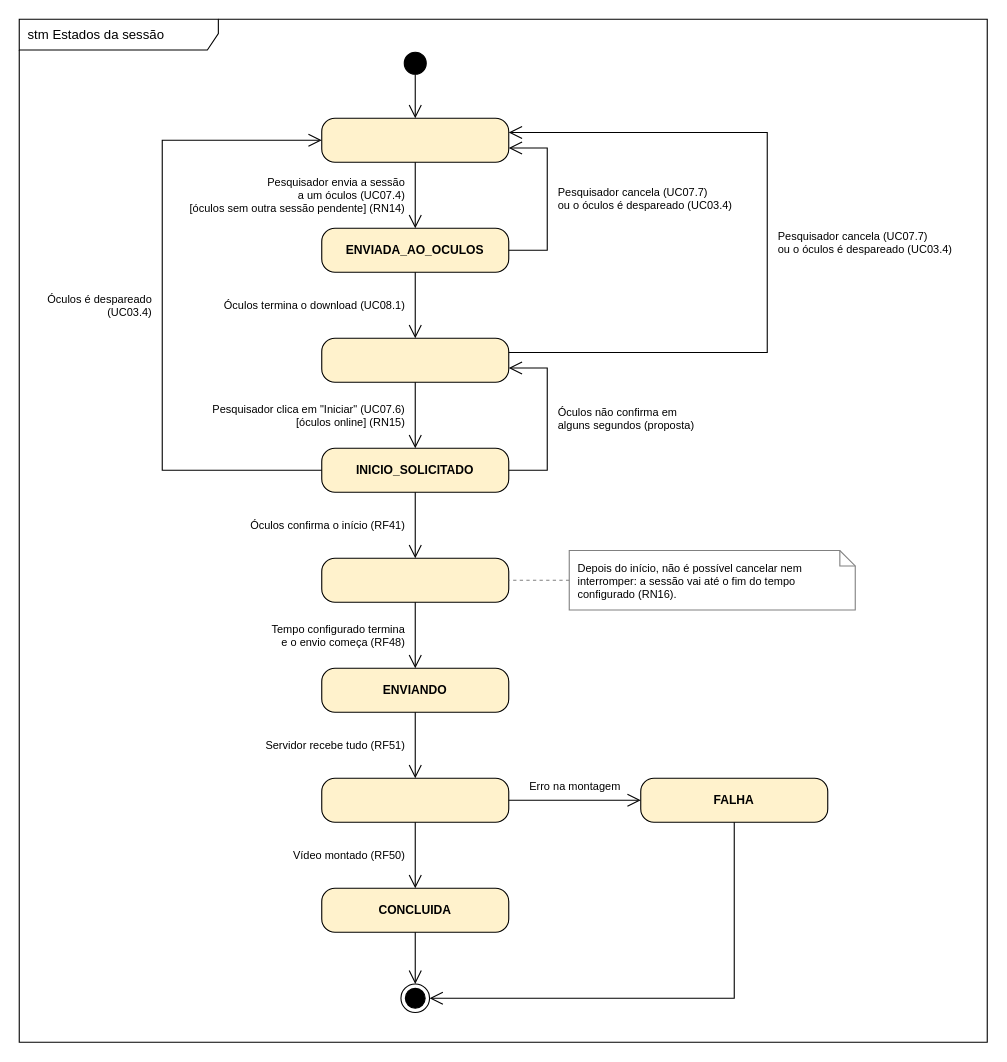
Image size: 1007x1062. Some labels were removed from this diagram. Here are the shapes that lost their labels. From the top down, the centre of each, then its label:
the point at 415,139: RASCUNHO
the point at 415,359: BAIXADA
the point at 415,579: EM_EXECUCAO
the point at 415,799: PROCESSANDO
